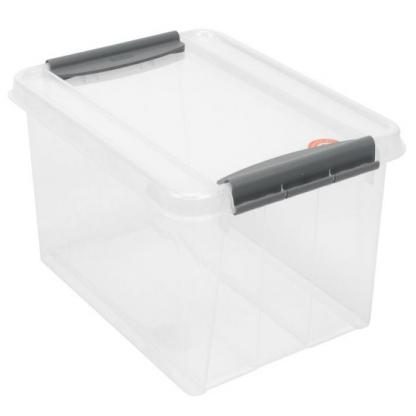plastic_box: (4, 19, 408, 392)
